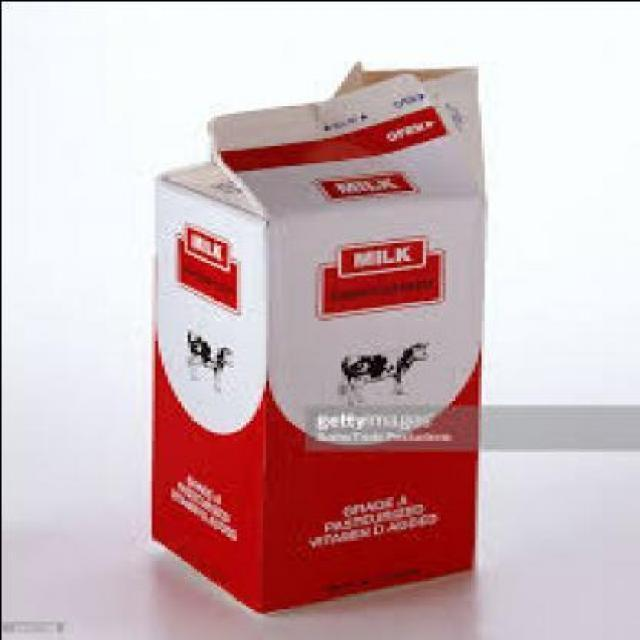box: (151, 56, 474, 613)
